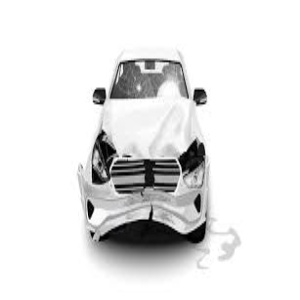bonnet: (97, 102, 198, 140)
bumper: (74, 172, 195, 235)
